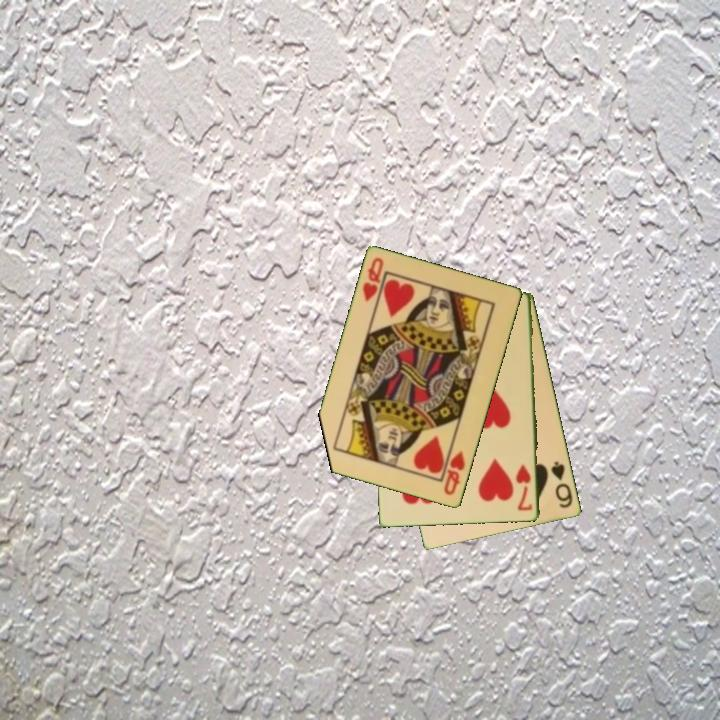6s: (548, 458, 576, 511)
7h: (513, 461, 536, 514)
Qh: (359, 254, 387, 305), (441, 447, 468, 499)
